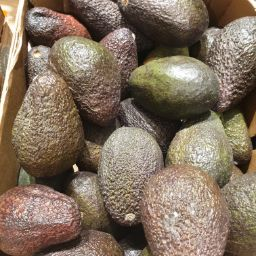Avocado: (13, 5, 227, 256), (143, 161, 238, 256), (19, 68, 86, 188), (101, 121, 163, 249), (47, 36, 129, 128), (128, 50, 221, 116), (4, 179, 85, 250), (207, 17, 256, 112), (121, 2, 215, 41), (27, 5, 94, 51), (68, 4, 124, 36)
